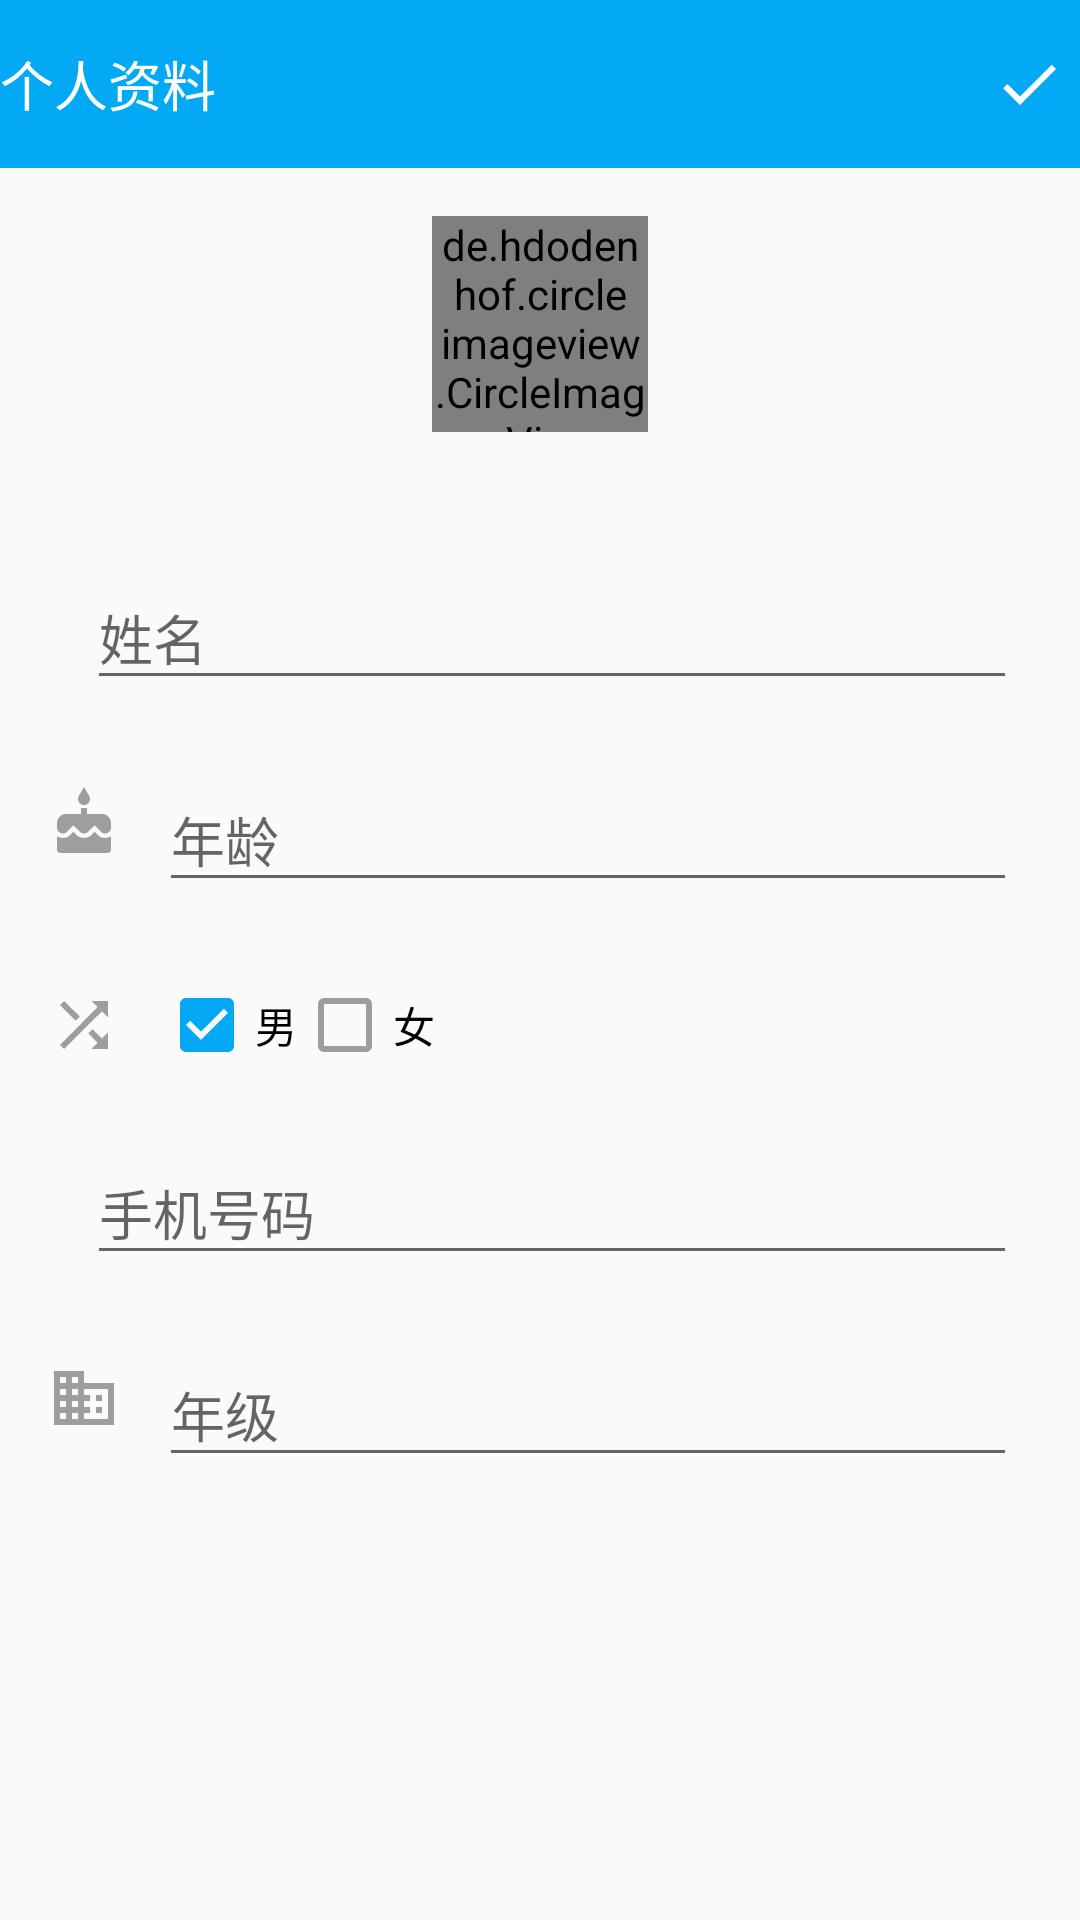

Named icons in this screenshot (1080 x 1920) and their bounding boxes, {"left": x1, "top": y1, "right": x2, "bottom": y2}:
check: {"left": 1003, "top": 65, "right": 1056, "bottom": 105}
myself age: {"left": 57, "top": 788, "right": 111, "bottom": 853}
